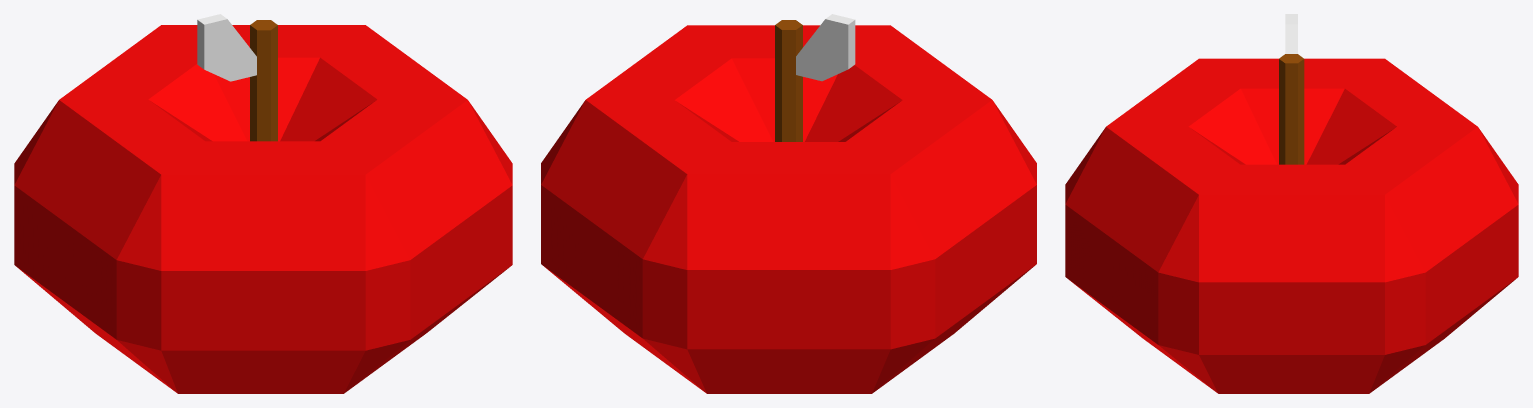
File: apple_01.fbx
3 renders of one model, left to right at view 1: azimuth 30°, elevation 25°; view 2: azimuth 150°, elevation 25°; view 3: azimuth 270°, elevation 25°, orthographic. The views are drawn at different scales.
Parts seen in each view (by area): view 1: Model; view 2: Model; view 3: Model.
Part boxes in pixels (<box>): Model: <box>14,14,512,393</box>; Model: <box>541,14,1036,393</box>; Model: <box>1065,14,1518,393</box>.
Size of the model in its own units: 174 by 190 by 138.
